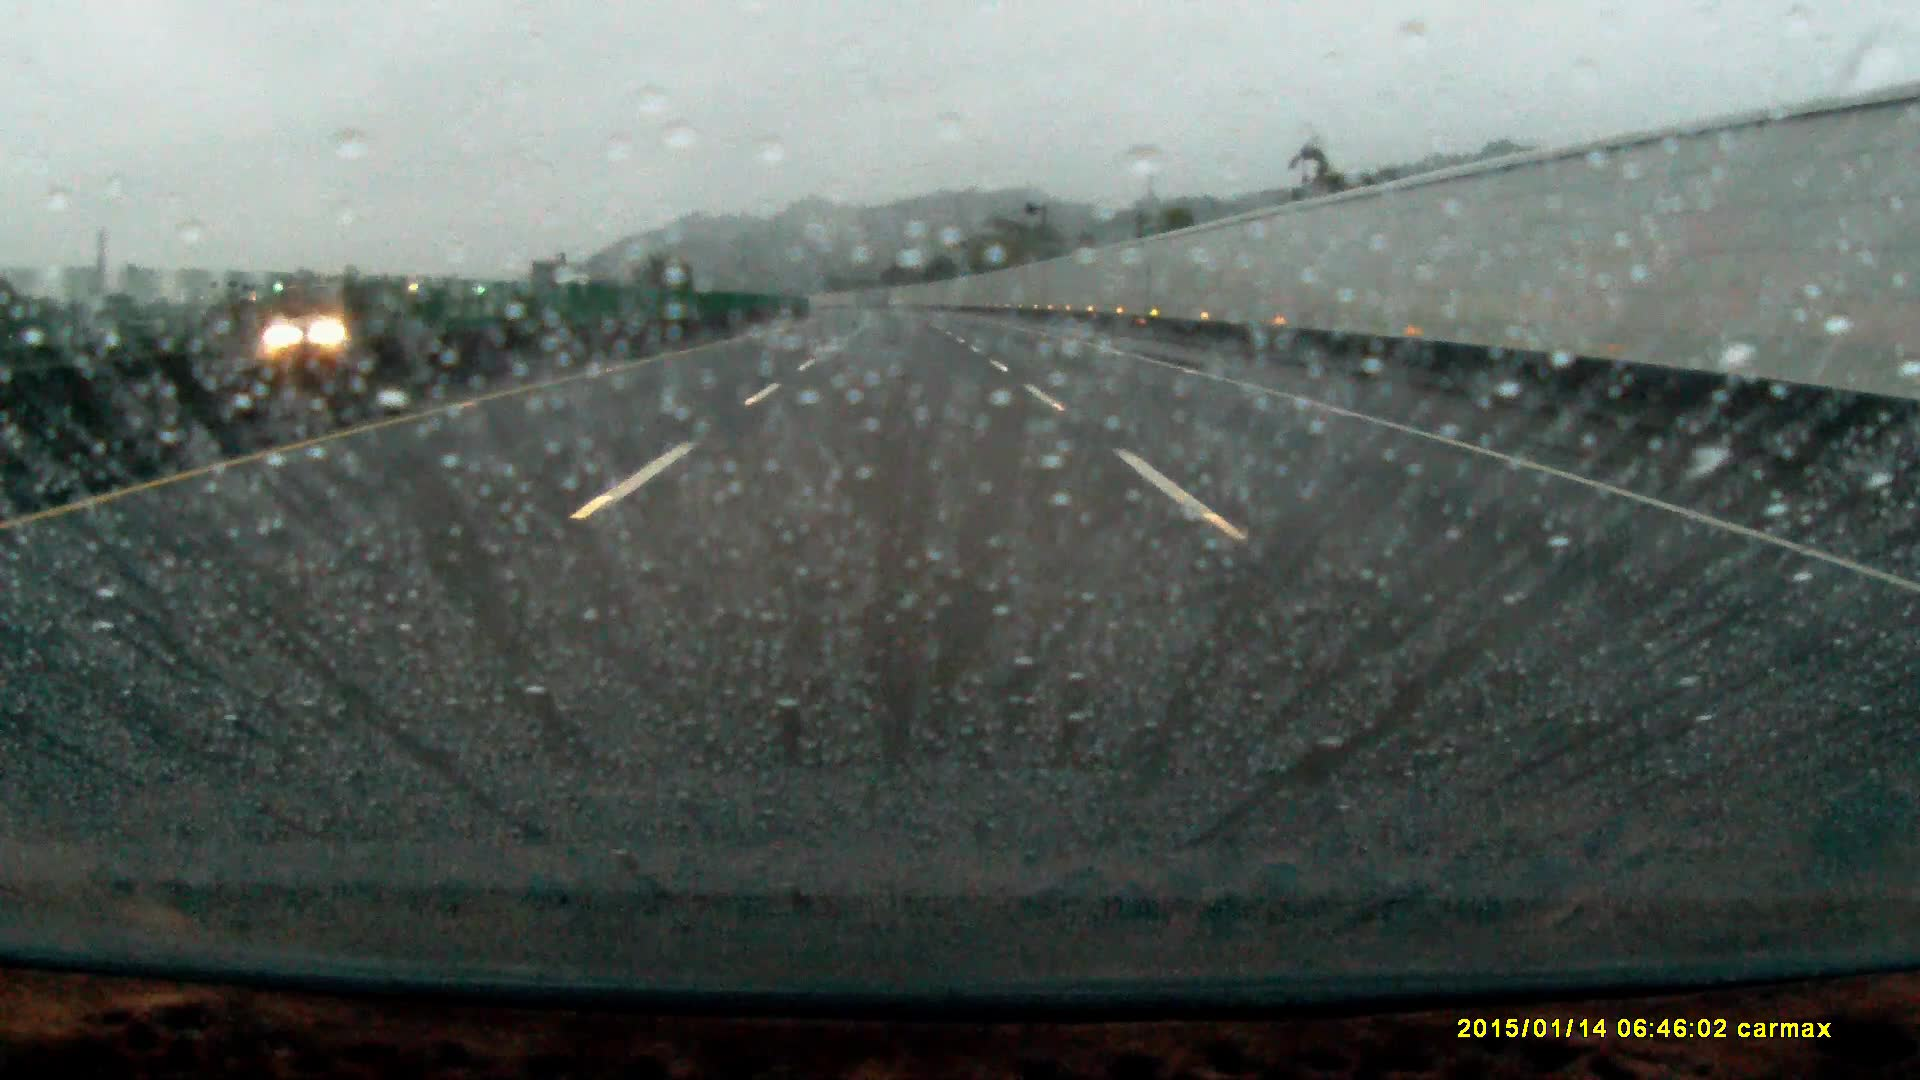vehicle: (261, 297, 377, 355)
